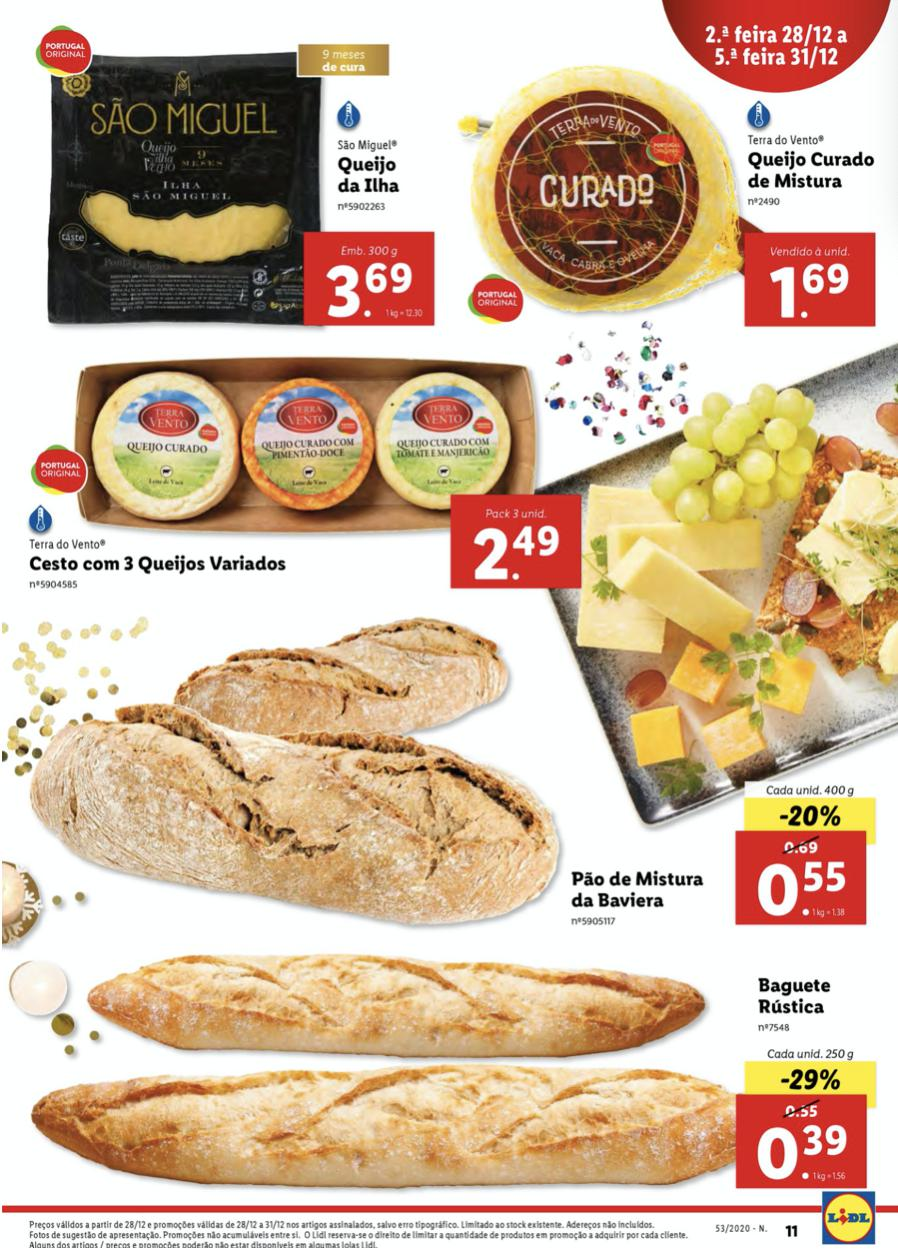name: (29, 555, 292, 578), (566, 872, 713, 913), (744, 147, 877, 192), (330, 150, 407, 196), (753, 976, 837, 1015)
price: (755, 858, 849, 921), (470, 521, 563, 581), (326, 260, 417, 320), (757, 1121, 849, 1180), (769, 263, 853, 323)
product: (18, 641, 881, 930), (38, 961, 872, 1193), (12, 349, 598, 598), (24, 23, 452, 340), (449, 61, 892, 335)
promotion: (777, 801, 846, 833), (778, 1064, 841, 1096)
